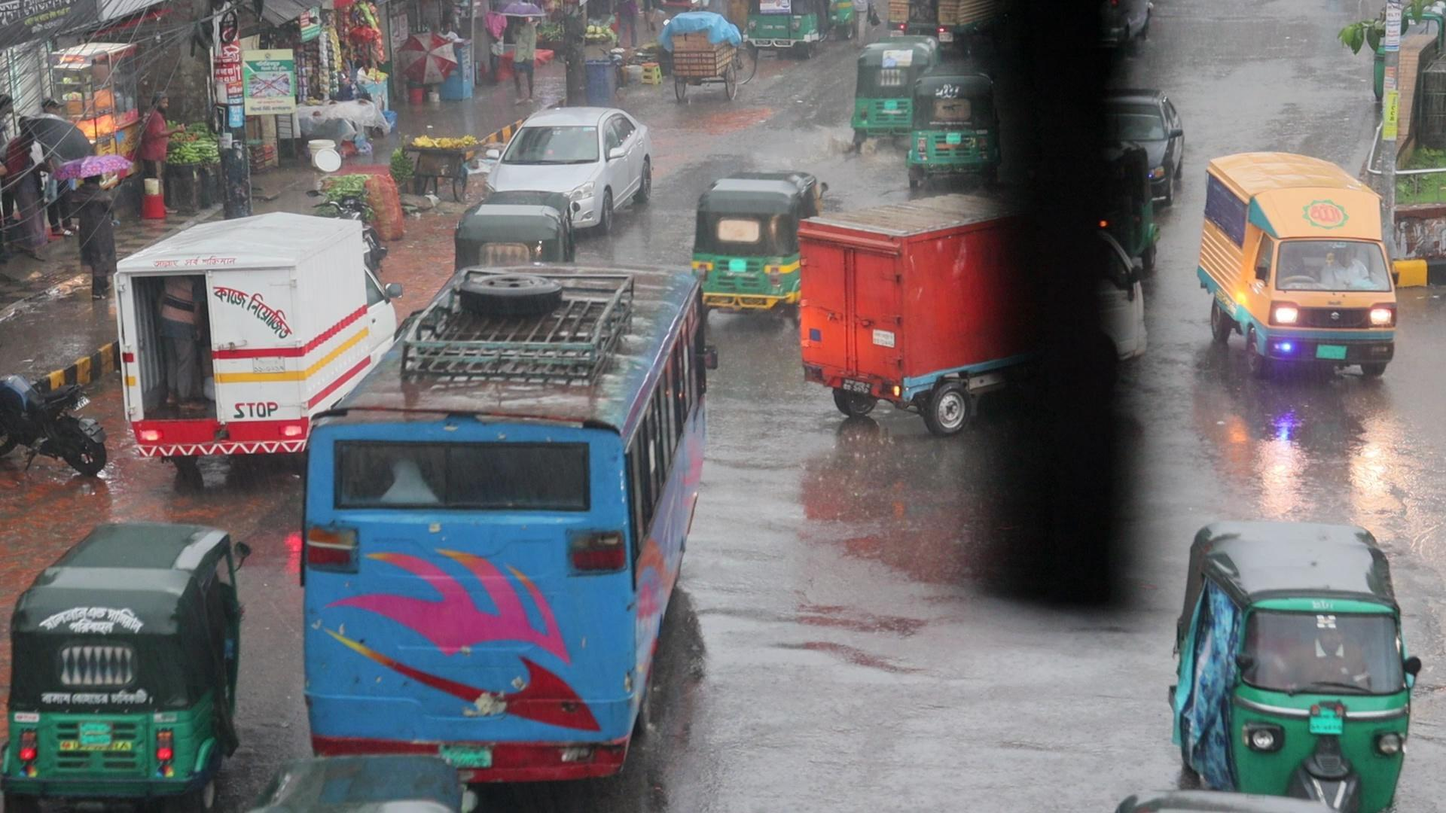Bus: (289, 249, 719, 762)
Truck: (1192, 142, 1403, 387)
